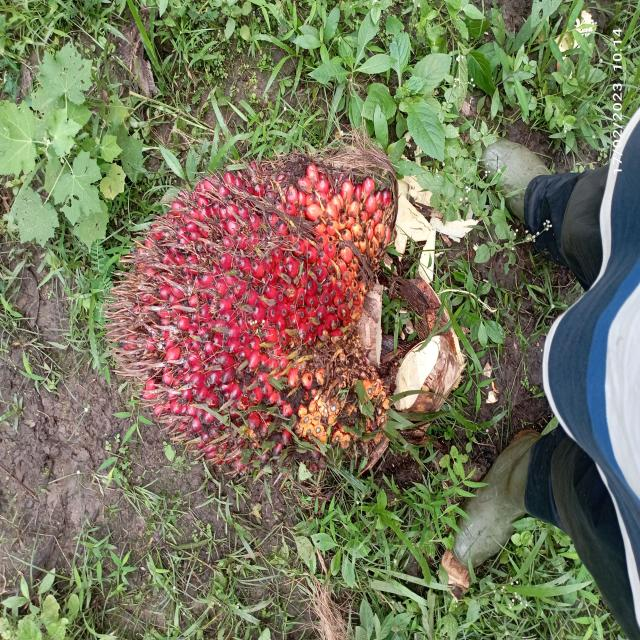fraksi 3: (56, 105, 459, 492)
